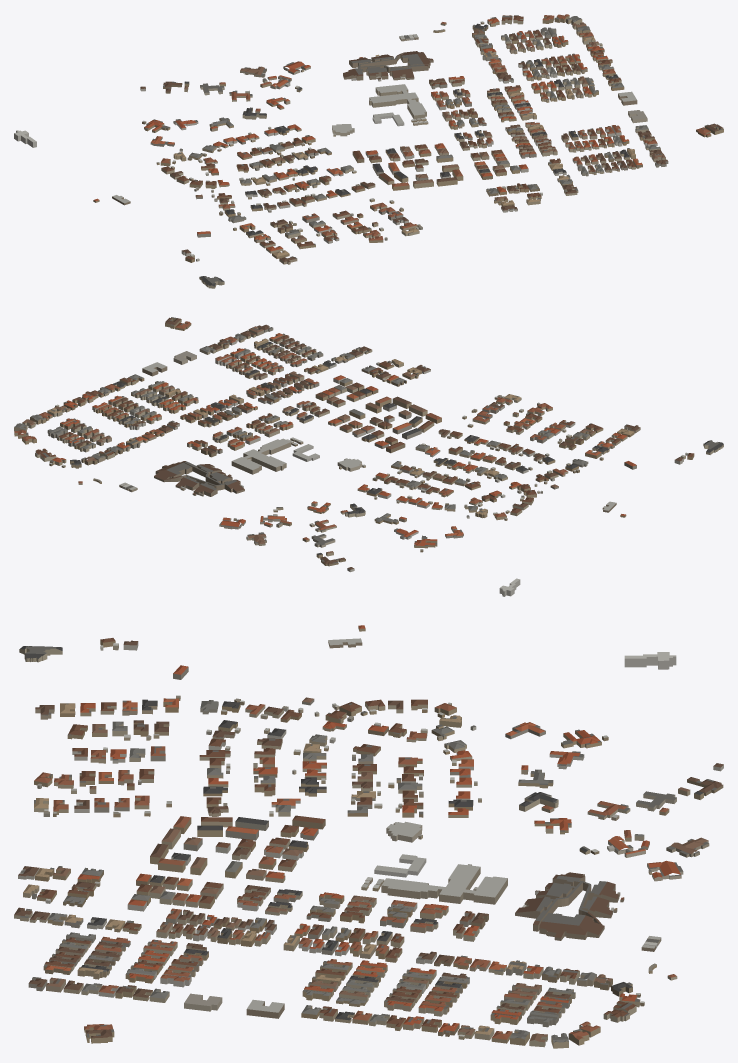
3 renders of one model, top to bottom at view 1: azimuth 30°, elevation 25°; view 2: azimuth 150°, elevation 25°; view 3: azimuth 270°, elevation 25°, orthographic. The views are drawn at different scales.
Parts seen in each view (by area): view 1: buildings_r7_c0_lod1; view 2: buildings_r7_c0_lod1; view 3: buildings_r7_c0_lod1.
Boxes of the visible parts, x1,y1,x2,y2 form: buildings_r7_c0_lod1: [14, 14, 723, 288]; buildings_r7_c0_lod1: [14, 317, 723, 596]; buildings_r7_c0_lod1: [14, 625, 723, 1048].
Size of the model in its own units: 1120 by 36.65 by 797.
